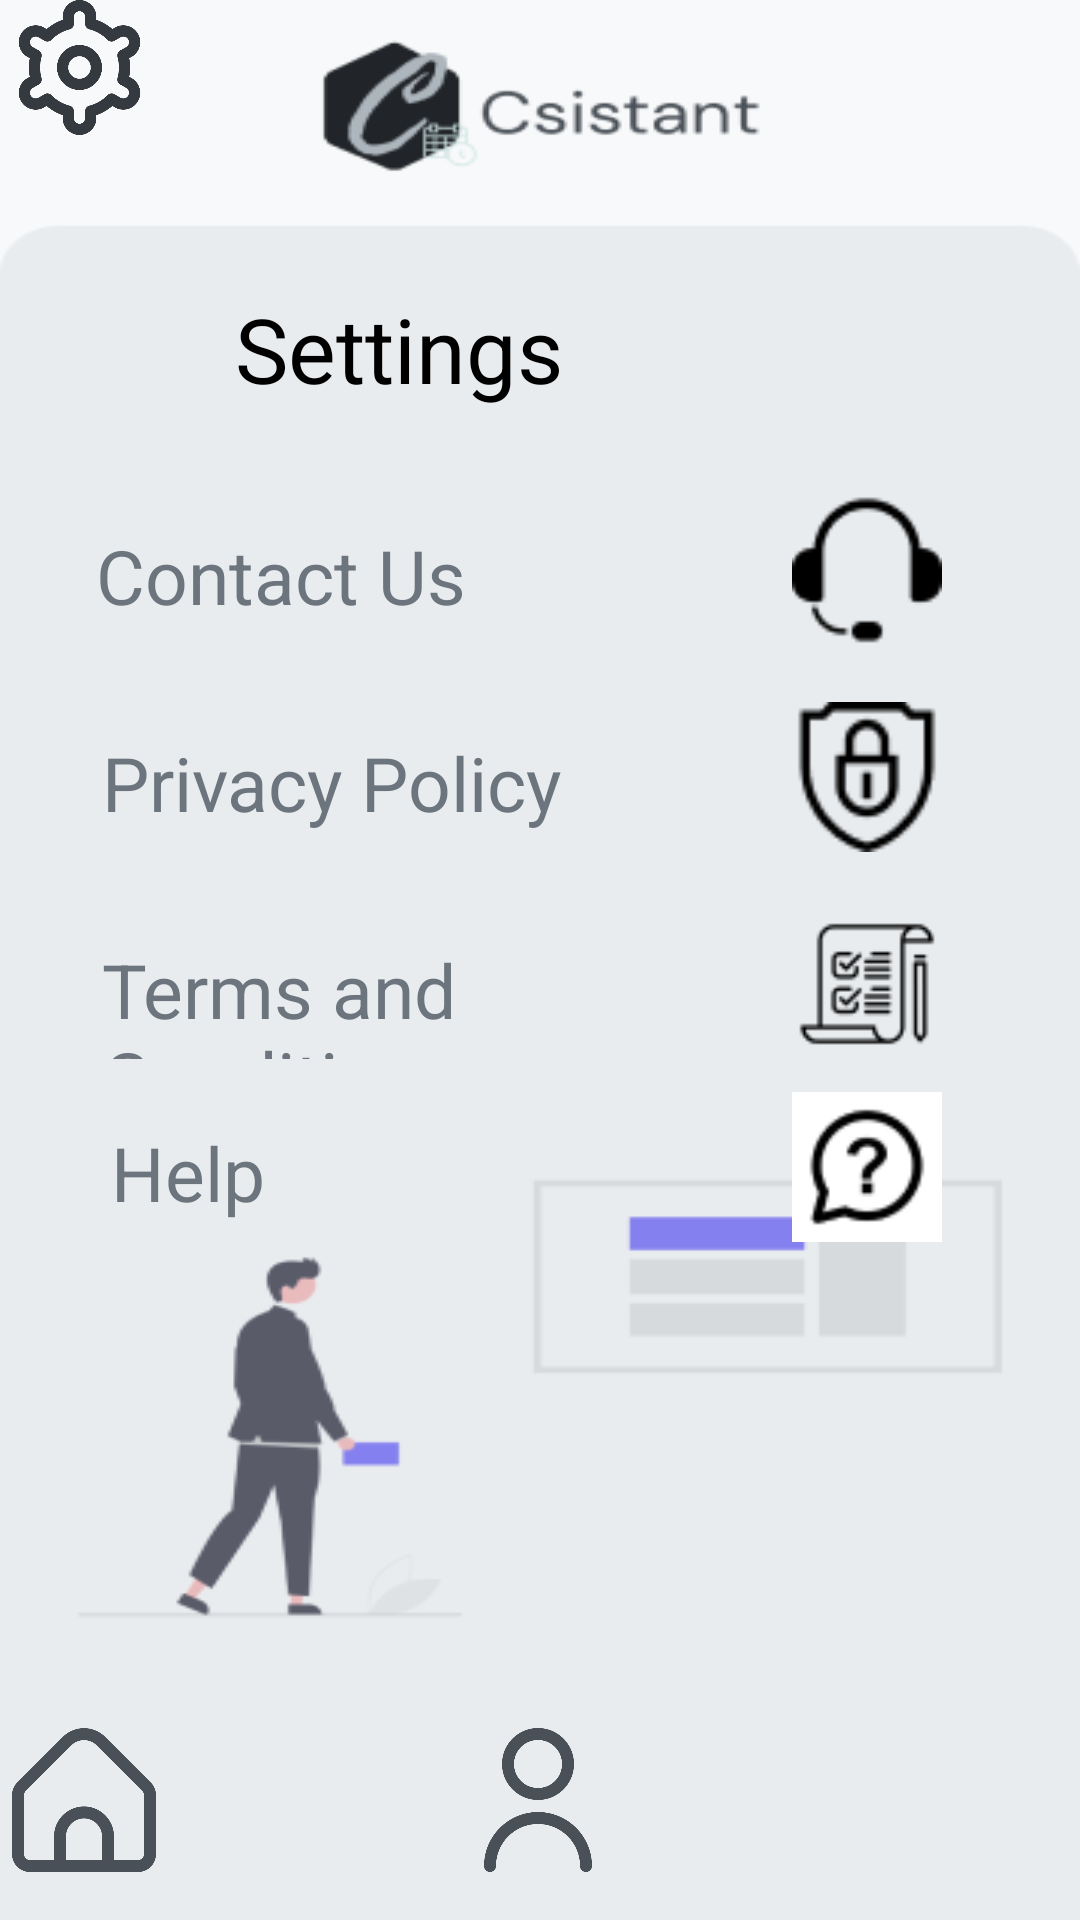

Screen size 1080w x 1920h. Icon name, then its center in pixels as (x,y):
home: (84,1800)
settings: (79,67)
support: (867,570)
user: (538,1800)
